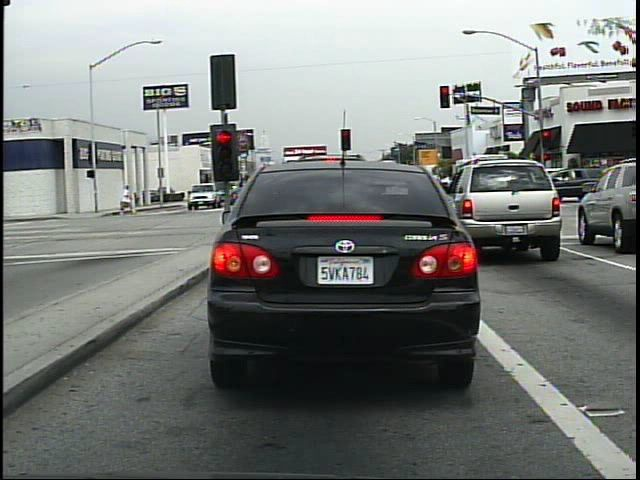person: (118, 182, 135, 218)
